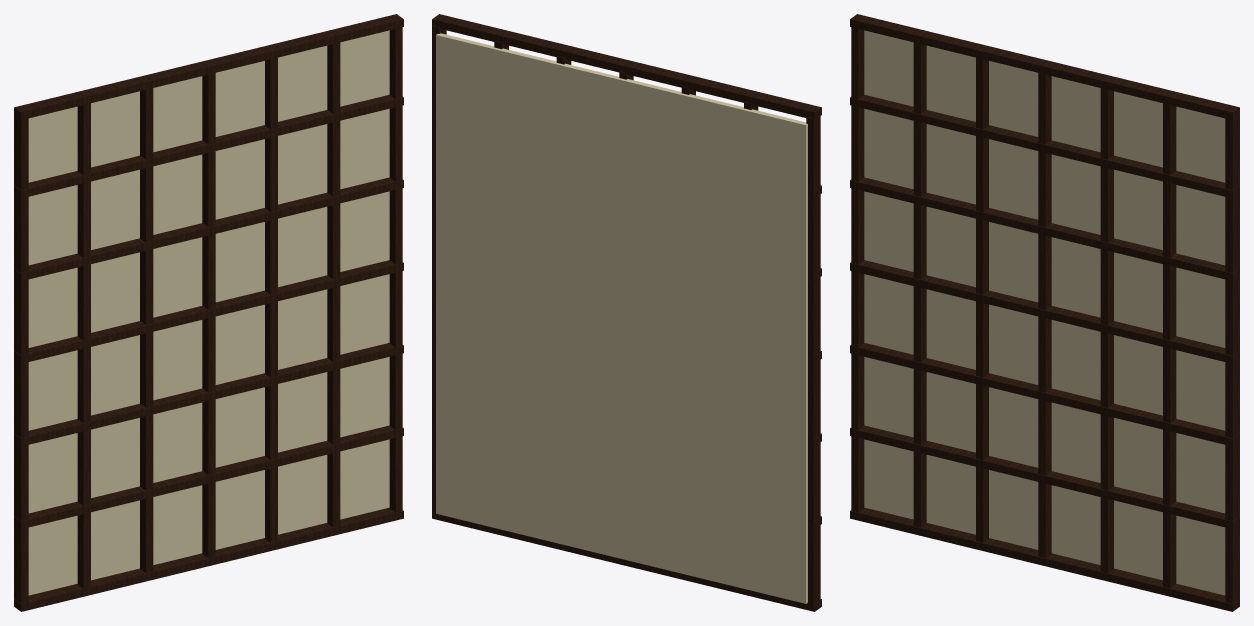
The model's file is module_wall_paper_lattice_2m.glb.
The picture shows the model from 3 angles, left to right: view 1: azimuth 30°, elevation 25°; view 2: azimuth 150°, elevation 25°; view 3: azimuth 330°, elevation 25°; orthographic projection.
Parts seen in each view (by area): view 1: paper, lattice_v, lattice_v.002, lattice_v.005, lattice_v.003, lattice_v.006, lattice_v.001, lattice_h.006, lattice_v.004, lattice_h, lattice_h.004, lattice_h.003 (+3 smaller); view 2: paper, lattice_v, lattice_h.006, lattice_h, lattice_v.006; view 3: paper, lattice_v.006, lattice_v.004, lattice_v.001, lattice_v.003, lattice_v, lattice_v.005, lattice_h.006, lattice_v.002, lattice_h, lattice_h.004, lattice_h.003 (+3 smaller).
Part boxes in pixels (<box>): paper: <box>28,30,389,595</box>; lattice_v: <box>14,115,28,603</box>; lattice_v.002: <box>140,88,153,573</box>; lattice_v.005: <box>327,42,340,527</box>; lattice_v.003: <box>202,73,215,557</box>; lattice_v.006: <box>389,27,402,512</box>; lattice_v.001: <box>77,103,90,588</box>; lattice_h.006: <box>14,14,403,119</box>; lattice_v.004: <box>264,57,277,542</box>; lattice_h: <box>14,508,403,611</box>; lattice_h.004: <box>14,177,403,280</box>; lattice_h.003: <box>14,260,403,363</box>; paper: <box>436,33,807,603</box>; lattice_v: <box>806,116,820,610</box>; lattice_h.006: <box>432,14,821,119</box>; lattice_h: <box>432,514,821,611</box>; lattice_v.006: <box>432,25,446,519</box>; paper: <box>864,30,1225,595</box>; lattice_v.006: <box>1225,115,1239,603</box>; lattice_v.004: <box>1100,88,1113,573</box>; lattice_v.001: <box>913,42,926,527</box>; lattice_v.003: <box>1038,73,1051,557</box>; lattice_v: <box>851,27,864,512</box>; lattice_v.005: <box>1163,103,1176,588</box>; lattice_h.006: <box>850,14,1239,119</box>; lattice_v.002: <box>976,57,989,542</box>; lattice_h: <box>850,508,1239,611</box>; lattice_h.004: <box>850,177,1239,280</box>; lattice_h.003: <box>850,260,1239,363</box>.
Bounding box in the file's own units: 1.84 × 2.3 × 0.0795.
2 materials, 1 textured.
